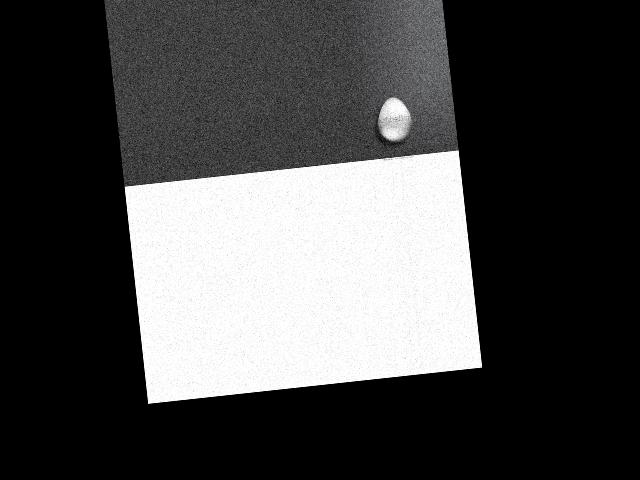egg: (374, 95, 414, 143)
